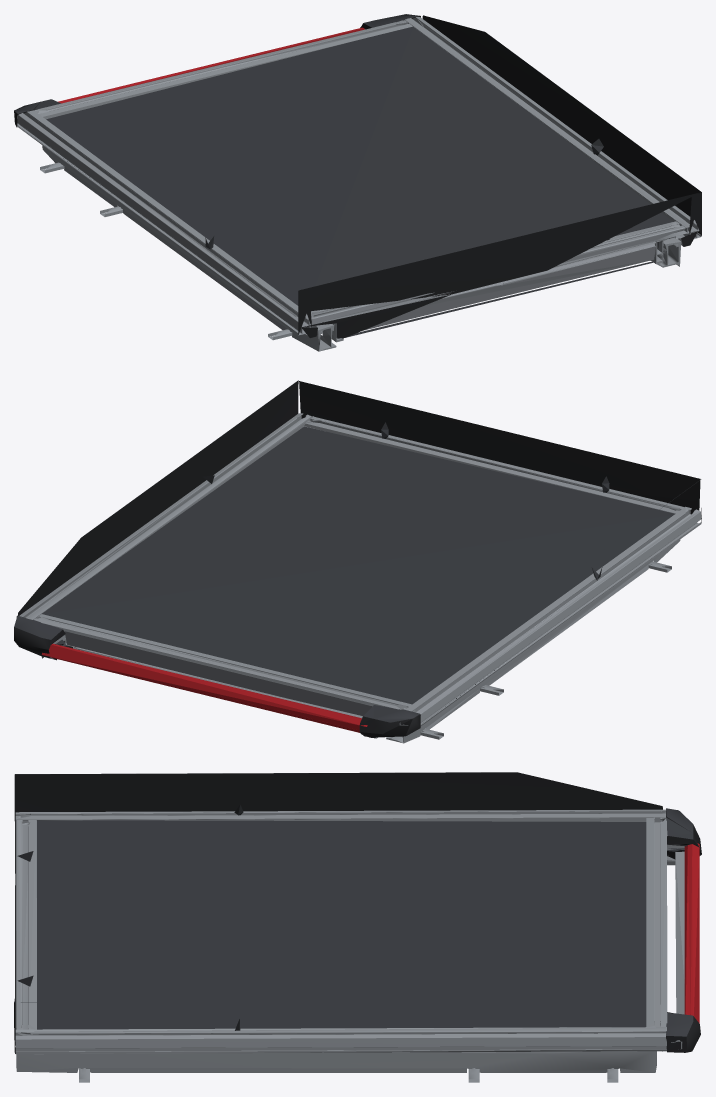
File: tub-slide.glb
3 views of the same model, one above another, from view 1: azimuth 30°, elevation 25°; view 2: azimuth 150°, elevation 25°; view 3: azimuth 270°, elevation 25° (orthographic). The views are drawn at different scales.
Parts seen in each view (by area): view 1: Slide_Deck, Frame; view 2: Slide_Deck, Frame; view 3: Slide_Deck, Frame.
Part boxes in pixels (x1,y1,x2,y2): Slide_Deck: (14,14,701,342); Frame: (40,145,680,351); Slide_Deck: (14,380,701,738); Frame: (41,539,680,743); Slide_Deck: (14,772,701,1054); Frame: (16,1051,656,1082).
Size of the model in its own units: 1.06 by 0.1835 by 1.35.
